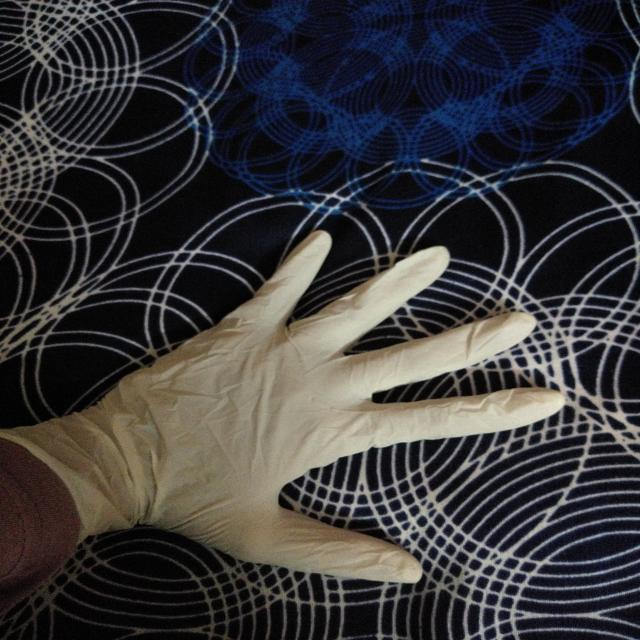glove_hand: (2, 222, 568, 600)
